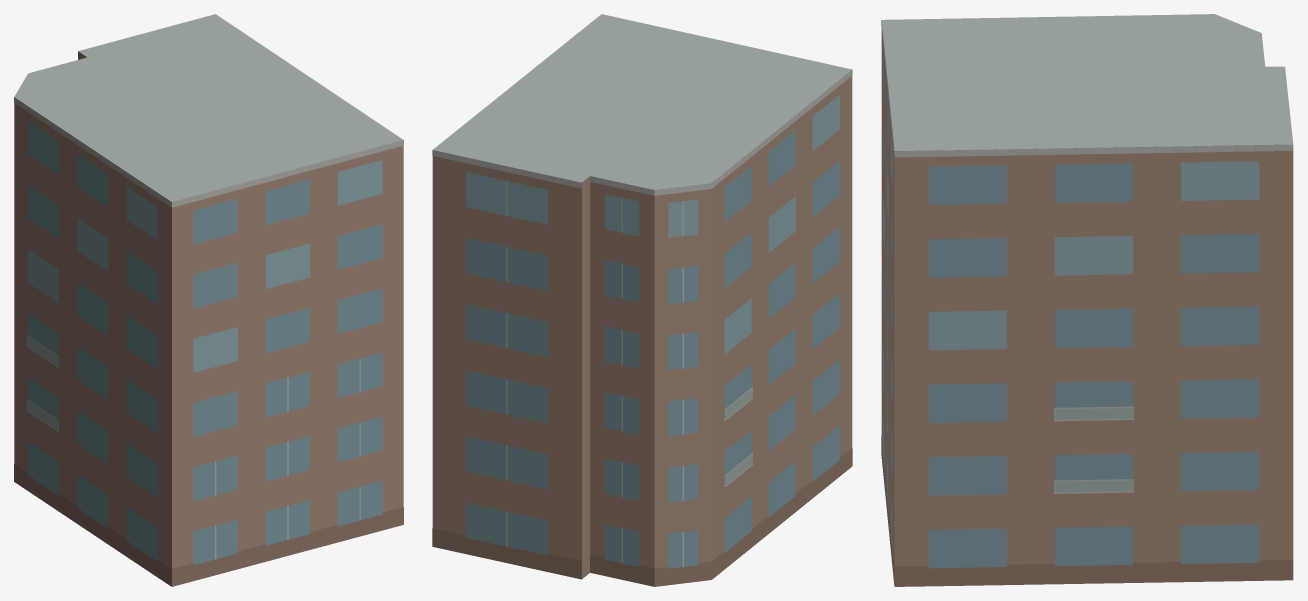
Rendered from survey-upis-32629187.glb.
3 views of the same model, side by side, from view 1: azimuth 30°, elevation 25°; view 2: azimuth 150°, elevation 25°; view 3: azimuth 270°, elevation 25° (orthographic). The views are drawn at different scales.
Visible parts, largest first — view 1: survey-upis-32629187.tmp; view 2: survey-upis-32629187.tmp; view 3: survey-upis-32629187.tmp.
Part boxes in pixels (box(x1,y1,x2,y2)): survey-upis-32629187.tmp: box(14, 14, 403, 586); survey-upis-32629187.tmp: box(432, 14, 852, 586); survey-upis-32629187.tmp: box(881, 14, 1293, 586).
Size of the model in its own units: 11.28 by 16.7 by 14.31.
